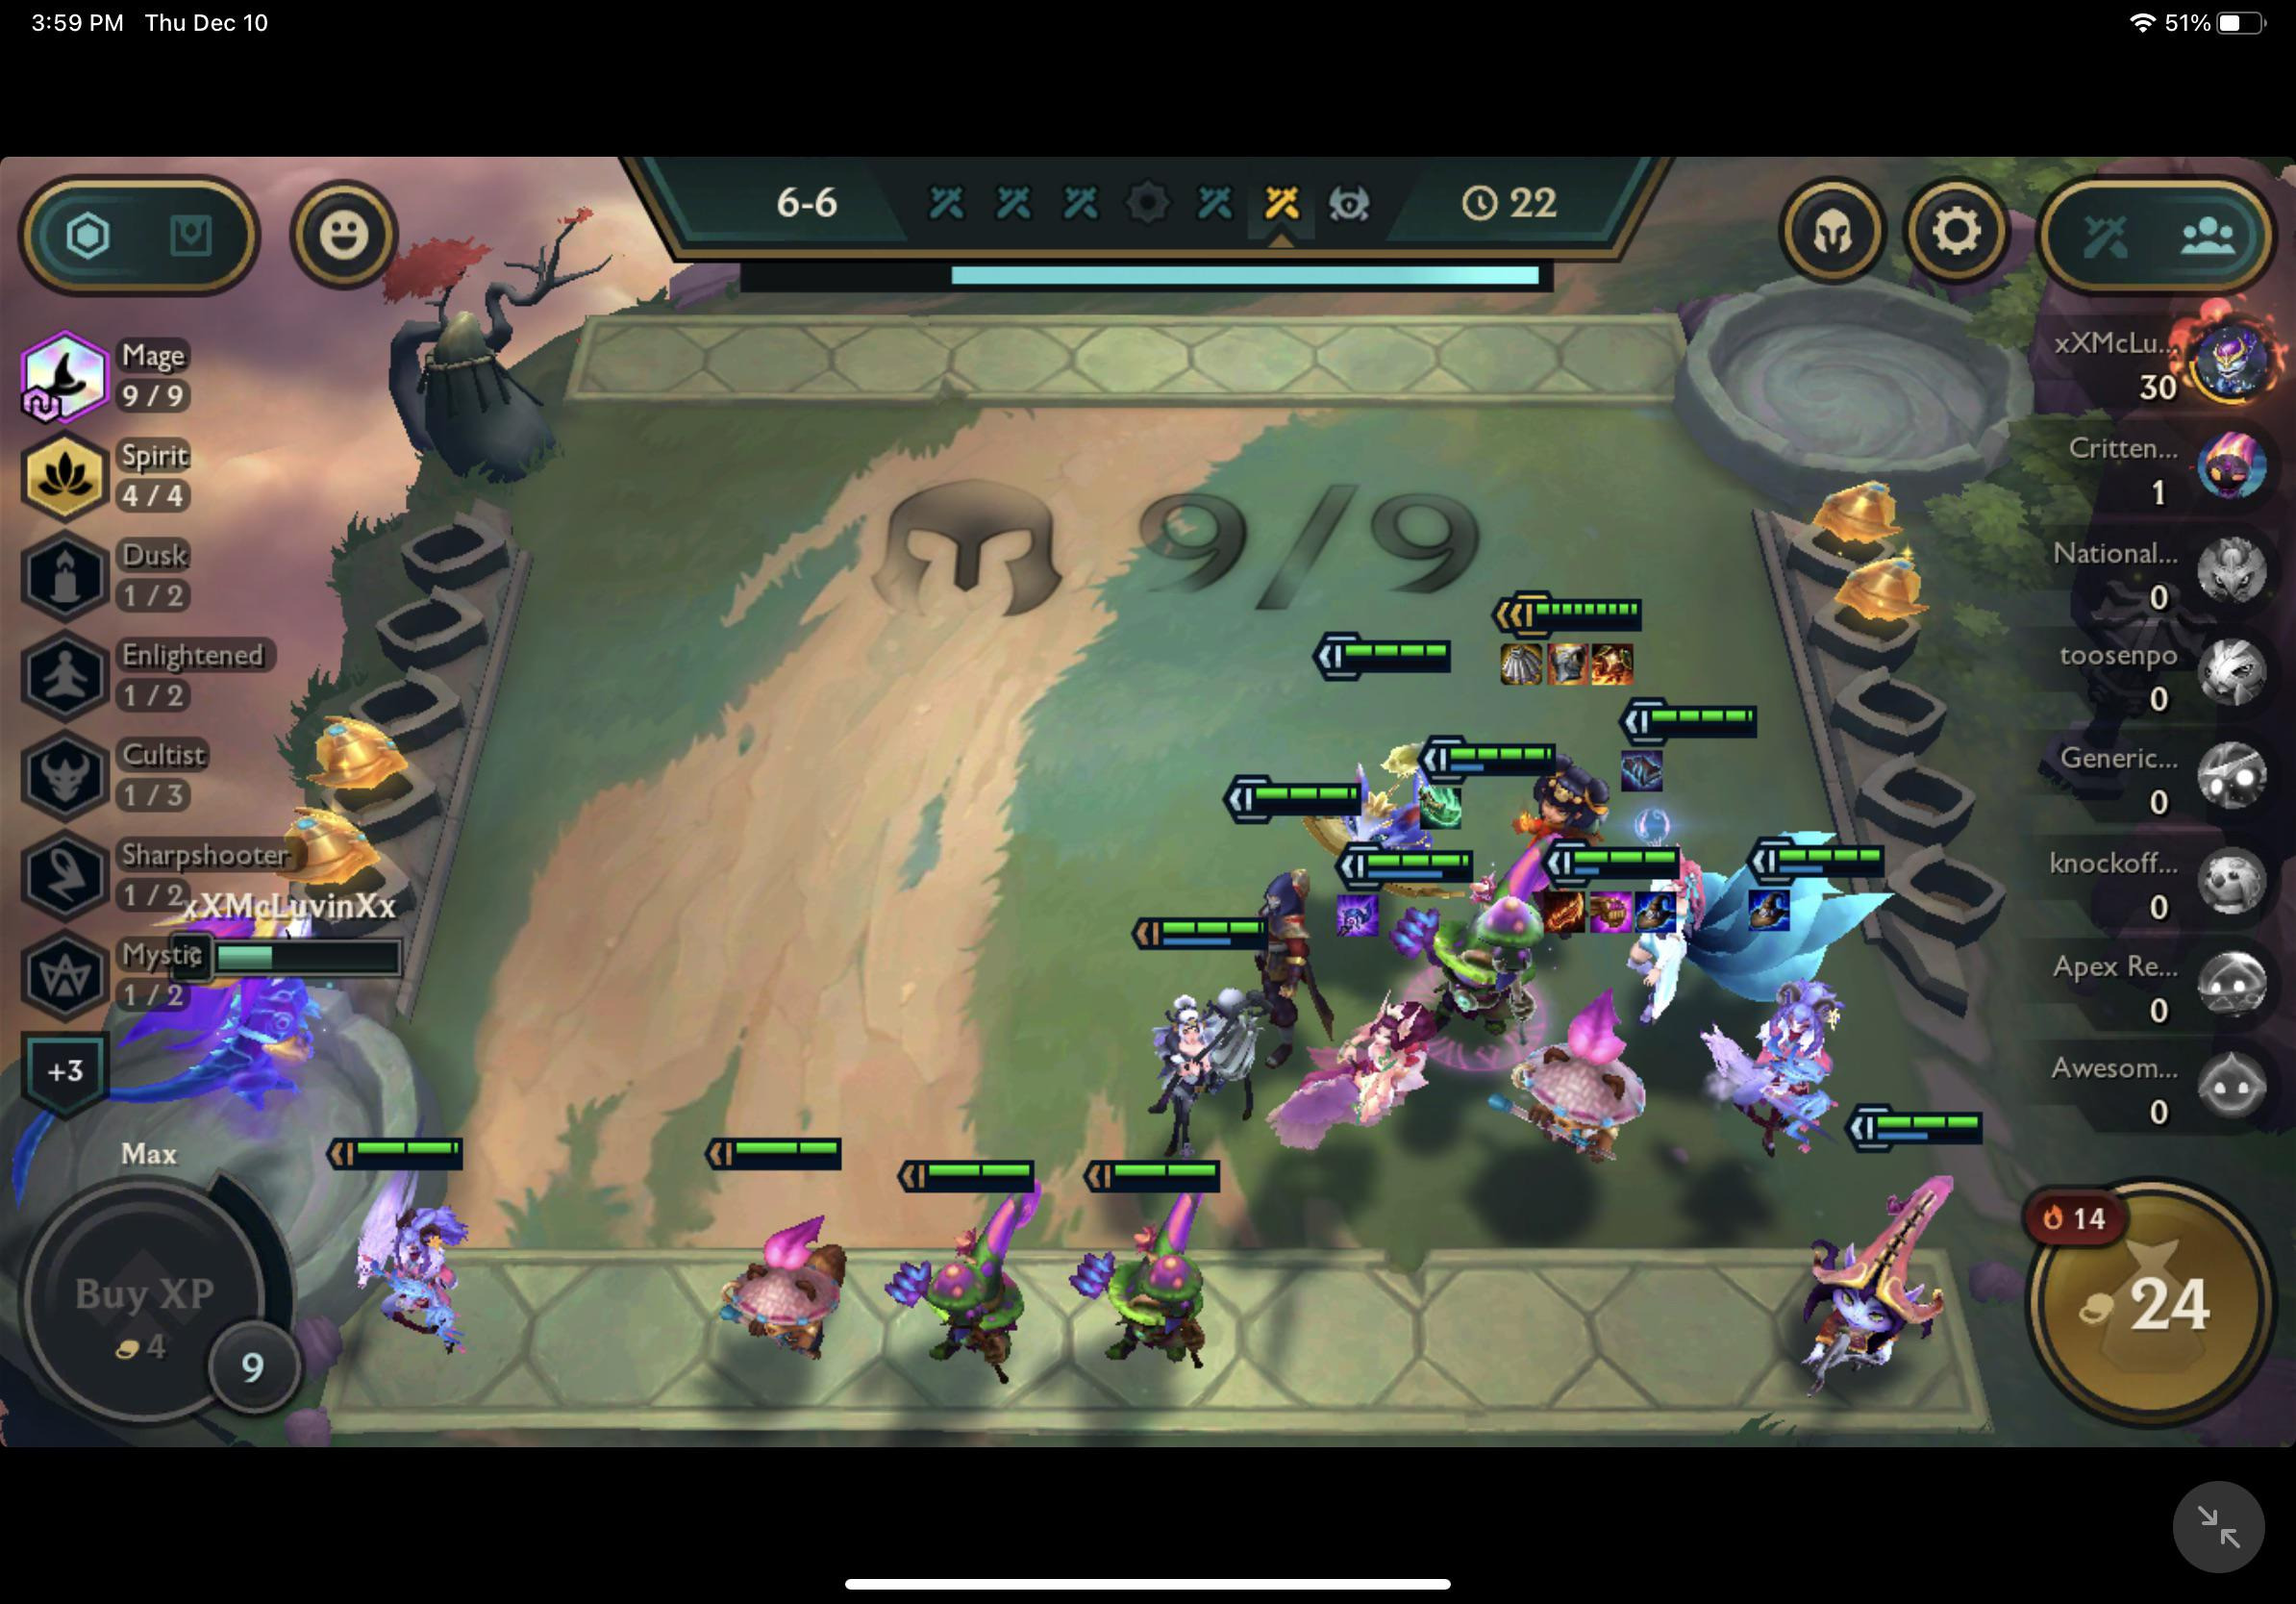1star_kindred: (305, 1117, 497, 1388)
1star_lillia: (1103, 904, 1295, 1176)
1star_teemo: (682, 1119, 874, 1391)
1star_veigar: (867, 1136, 1059, 1409), (1054, 1140, 1246, 1410)
2star_ahri: (1605, 682, 1909, 1042)
2star_kindred: (1685, 819, 1895, 1222)
2star_lulu: (1767, 1089, 2005, 1412)
2star_nami: (1254, 829, 1488, 1241)
2star_teemo: (1485, 833, 1694, 1234)
2star_twistedfate: (1200, 756, 1377, 1107)
2star_veigar: (1377, 719, 1582, 1087)
2star_veigar_chosen: (1375, 716, 1579, 1086)
2star_yuumi: (1291, 606, 1476, 923)
3star_annie: (1476, 578, 1649, 920)
item_gargoyle: (1542, 635, 1593, 688)
item_guinsoo: (1537, 885, 1586, 937)
item_jeweledgauntlet: (1584, 883, 1633, 936)
item_luden: (1331, 888, 1380, 941)
item_mage: (1631, 885, 1682, 937), (1745, 883, 1794, 936)
item_morello: (1616, 744, 1666, 796)
item_negatron: (1495, 637, 1546, 689)
item_shojin: (1415, 780, 1466, 833)
item_sunfire: (1586, 637, 1637, 689)
trait_cultist1: (2, 723, 312, 827)
trait_dusk1: (2, 525, 312, 630)
trait_enlightened1: (2, 625, 312, 728)
trait_mage9: (2, 316, 328, 431)
trait_mystic1: (2, 918, 312, 1021)
trait_sharpshooter1: (2, 820, 312, 923)
trait_spirit4: (2, 424, 312, 527)
